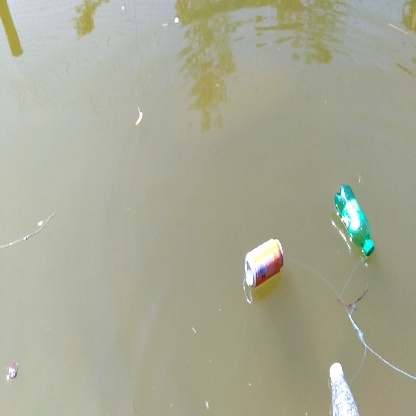bottle: (334, 183, 379, 257), (244, 234, 285, 296), (326, 360, 364, 416)
